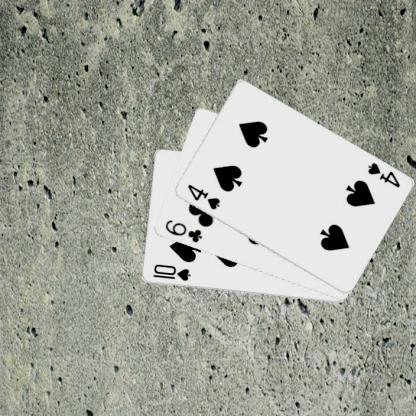10S: (150, 262, 192, 283)
4S: (184, 181, 221, 211), (364, 160, 400, 189)
6C: (162, 217, 203, 244)
